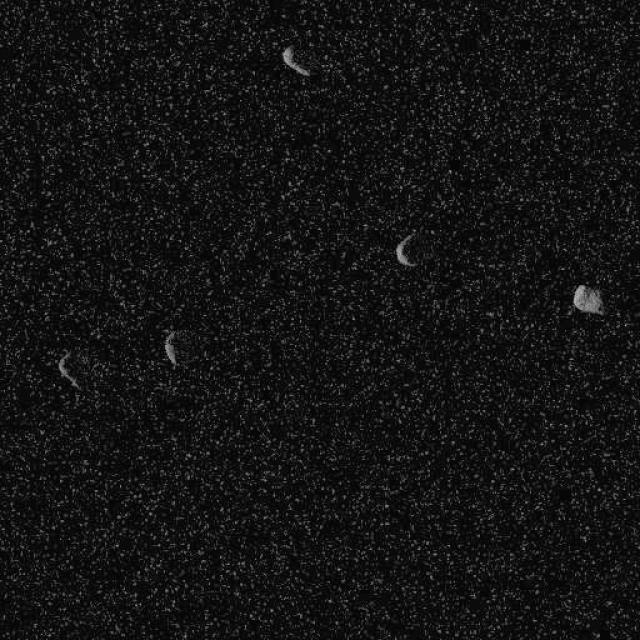D2: (56, 350, 82, 391), (571, 283, 604, 315), (280, 44, 310, 78), (394, 232, 418, 268), (162, 329, 178, 366)
